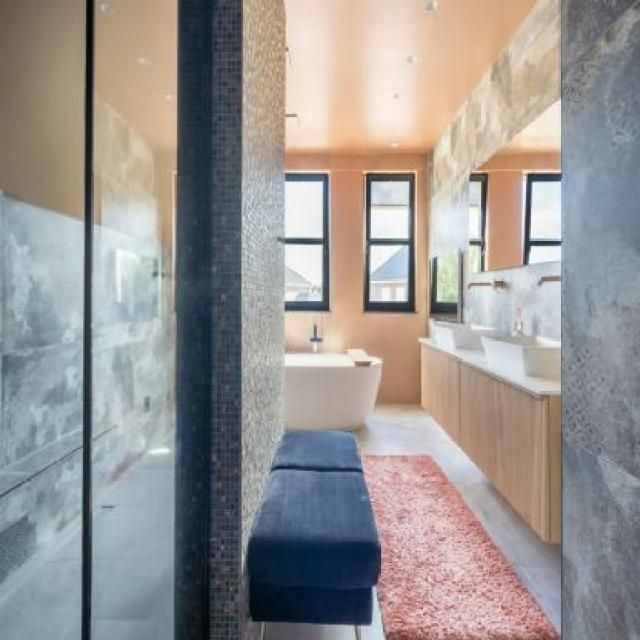floor: (239, 398, 567, 640)
